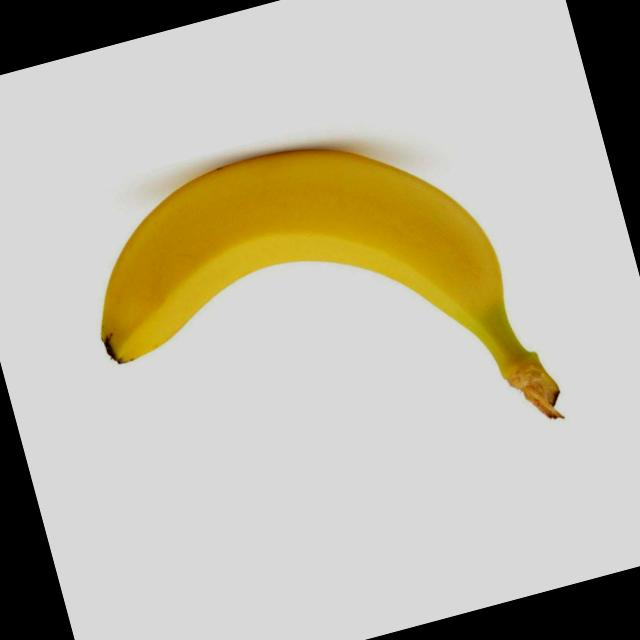chuoi: (101, 149, 563, 417)
